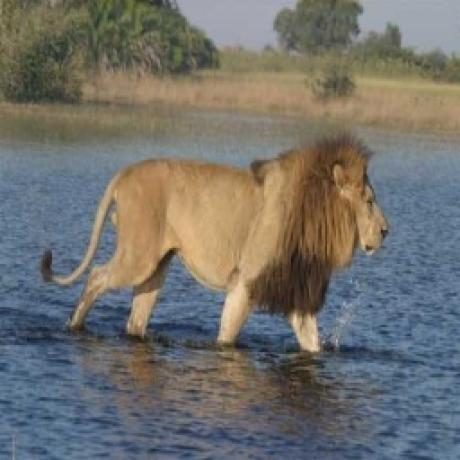Lion: (40, 131, 392, 358)
